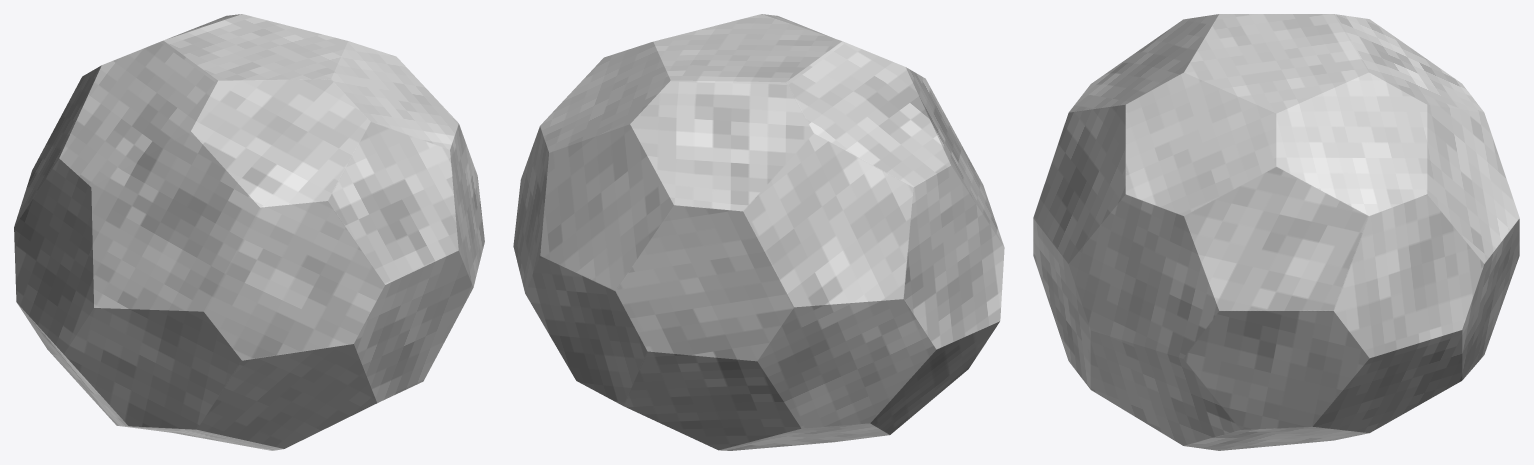
The model's file is Beacon.fbx.
3 renders of one model, left to right at view 1: azimuth 30°, elevation 25°; view 2: azimuth 150°, elevation 25°; view 3: azimuth 270°, elevation 25°, orthographic. The views are drawn at different scales.
Parts seen in each view (by area): view 1: Meridia's Beacon; view 2: Meridia's Beacon; view 3: Meridia's Beacon.
Boxes of the visible parts, box(x1,y1,x2,y2) form: Meridia's Beacon: box(14, 14, 484, 450); Meridia's Beacon: box(513, 14, 1004, 450); Meridia's Beacon: box(1033, 14, 1519, 450).
Size of the model in its own units: 16.9 by 14.34 by 16.51.
Materials: 1 (1 with a texture image).
